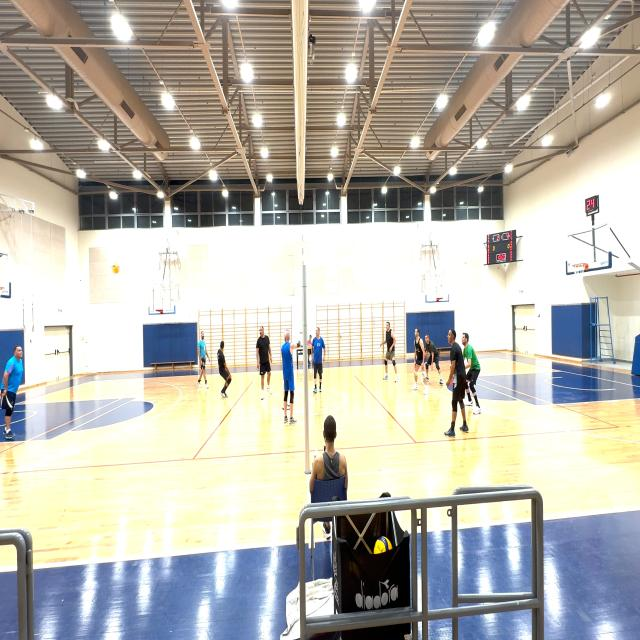volleyball: (373, 535, 392, 555), (446, 382, 454, 391), (112, 264, 119, 274)
